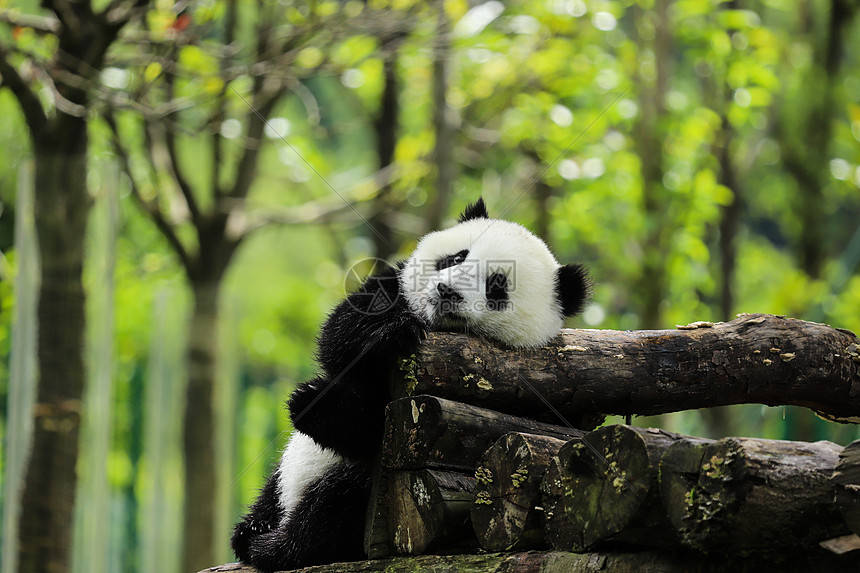panda: (269, 182, 584, 551)
